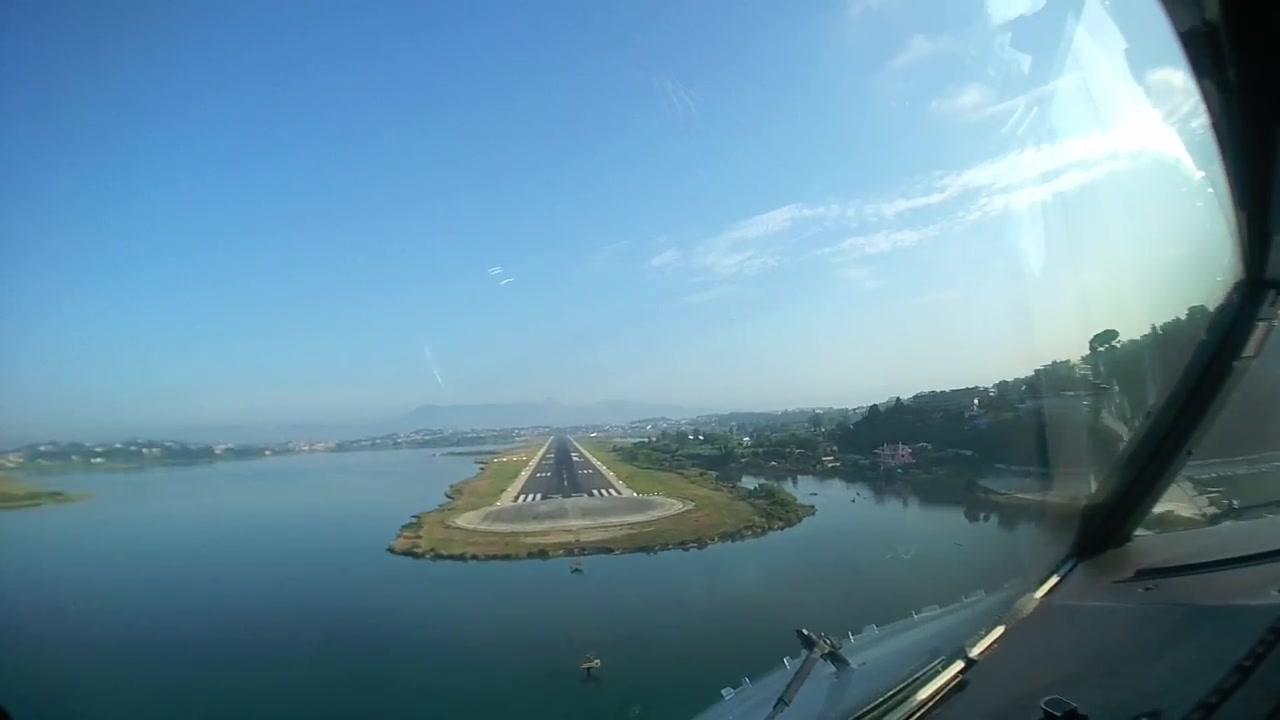entrance: (517, 488, 619, 501)
runway: (504, 436, 630, 506)
